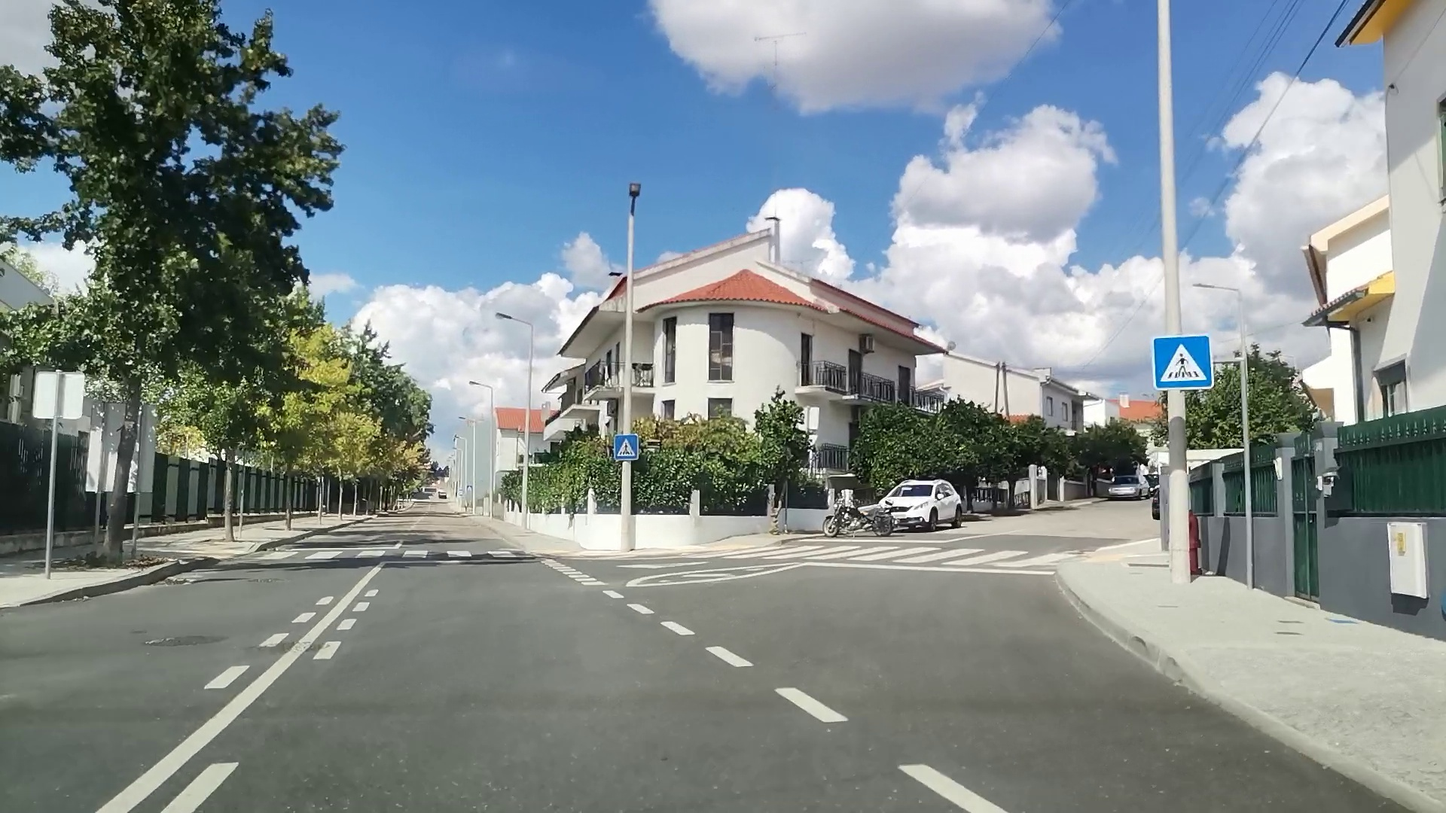Stairs: (686, 547, 1076, 566), (261, 549, 517, 560)
